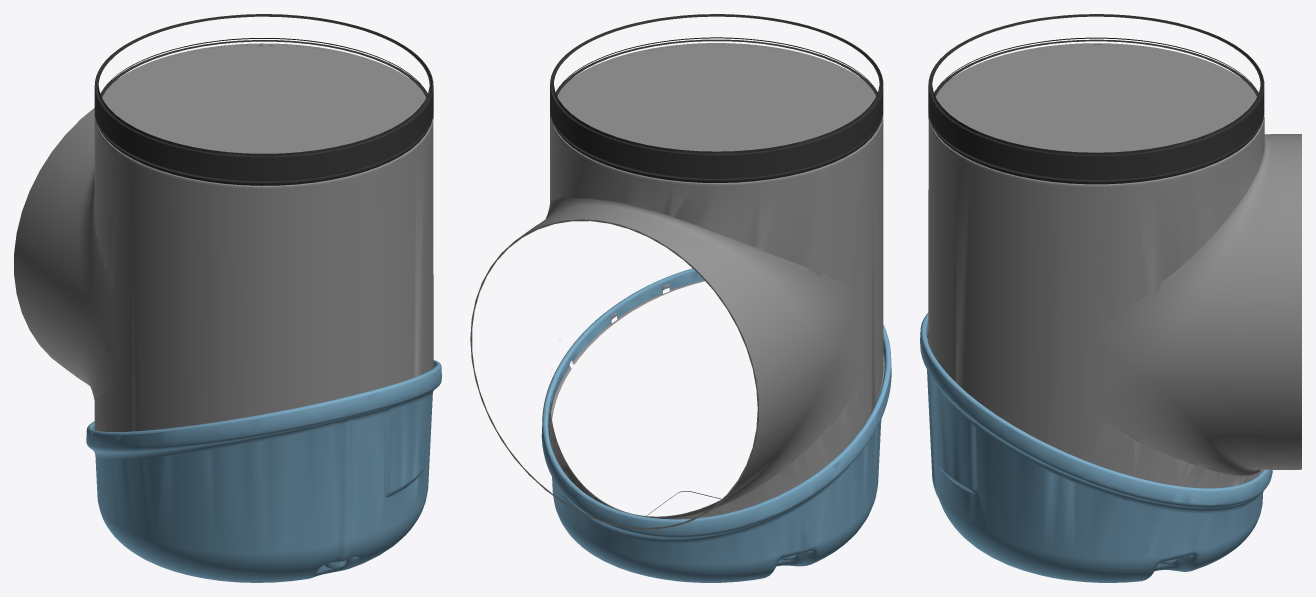
3 views of the same model, side by side, from view 1: azimuth 30°, elevation 25°; view 2: azimuth 150°, elevation 25°; view 3: azimuth 270°, elevation 25° (orthographic).
Parts seen in each view (by area): view 1: /eSeries_UR5e_049/eSeries_UR5e_049-mesh/0, /eSeries_UR5e_029/eSeries_UR5e_085-mesh/0, /eSeries_UR5e_002/eSeries_UR5e_086-mesh/0; view 2: /eSeries_UR5e_049/eSeries_UR5e_049-mesh/0, /eSeries_UR5e_029/eSeries_UR5e_085-mesh/0, /eSeries_UR5e_002/eSeries_UR5e_086-mesh/0; view 3: /eSeries_UR5e_049/eSeries_UR5e_049-mesh/0, /eSeries_UR5e_029/eSeries_UR5e_085-mesh/0, /eSeries_UR5e_002/eSeries_UR5e_086-mesh/0.
Boxes of the visible parts, <box> form: /eSeries_UR5e_049/eSeries_UR5e_049-mesh/0: <box>14,43,434,431</box>; /eSeries_UR5e_029/eSeries_UR5e_085-mesh/0: <box>86,360,441,582</box>; /eSeries_UR5e_002/eSeries_UR5e_086-mesh/0: <box>94,14,433,185</box>; /eSeries_UR5e_049/eSeries_UR5e_049-mesh/0: <box>470,43,884,529</box>; /eSeries_UR5e_029/eSeries_UR5e_085-mesh/0: <box>541,268,891,582</box>; /eSeries_UR5e_002/eSeries_UR5e_086-mesh/0: <box>550,14,883,182</box>; /eSeries_UR5e_049/eSeries_UR5e_049-mesh/0: <box>927,43,1301,488</box>; /eSeries_UR5e_029/eSeries_UR5e_085-mesh/0: <box>920,313,1272,582</box>; /eSeries_UR5e_002/eSeries_UR5e_086-mesh/0: <box>928,14,1264,184</box>.
Size of the model in its own units: 0.0787 by 0.1099 by 0.0852.
